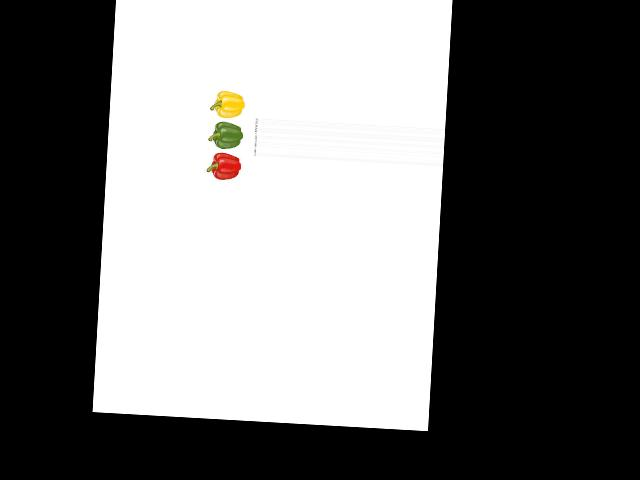bell_pepper: (210, 88, 248, 121)
